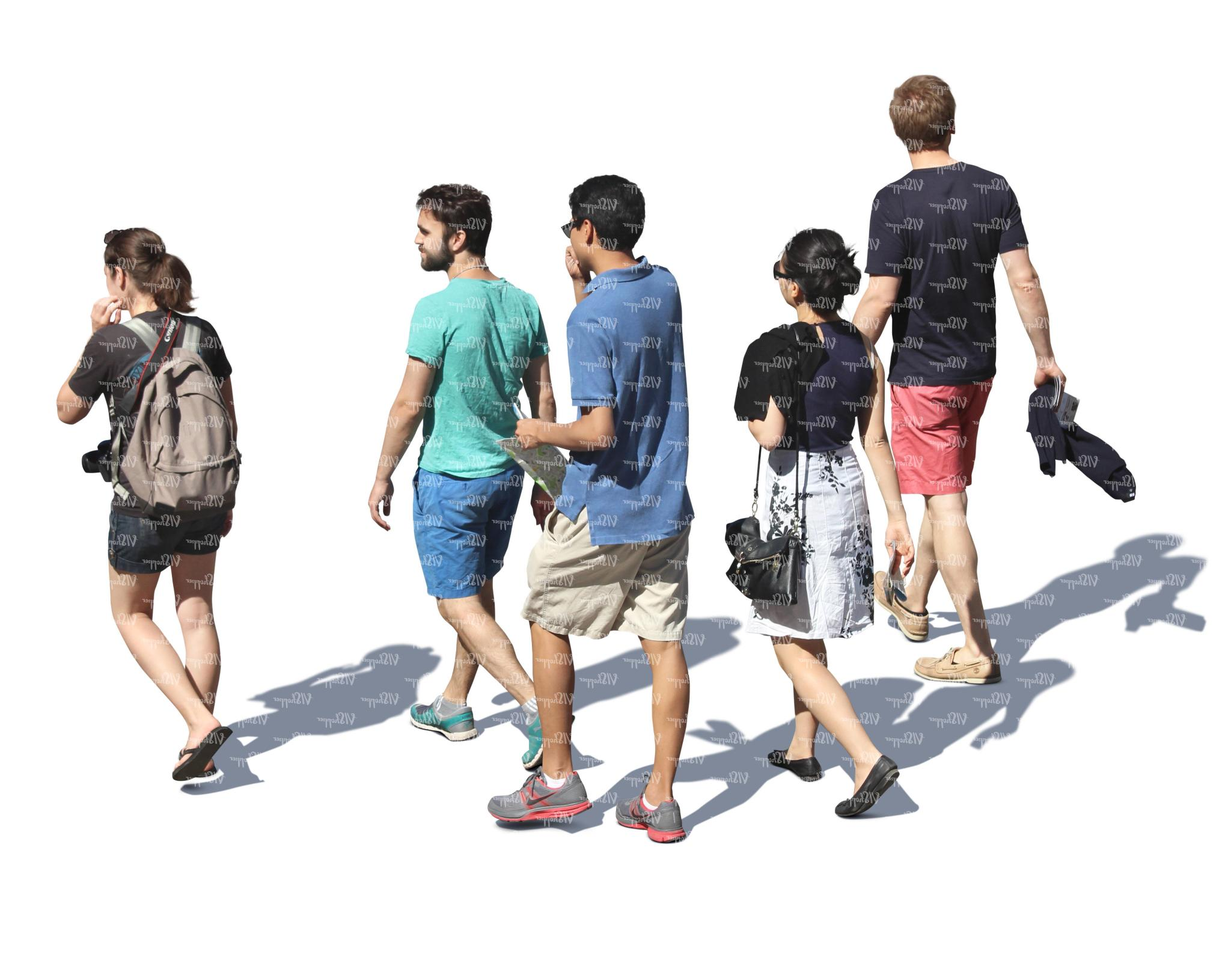Shorts: (519, 507, 692, 638), (408, 467, 527, 605), (890, 372, 995, 497), (108, 495, 228, 578)
short sleeve shirt: (549, 258, 698, 550), (865, 158, 1035, 388), (67, 310, 240, 502), (401, 272, 553, 480)
skirt: (748, 442, 883, 643)
vest: (771, 315, 880, 461)
